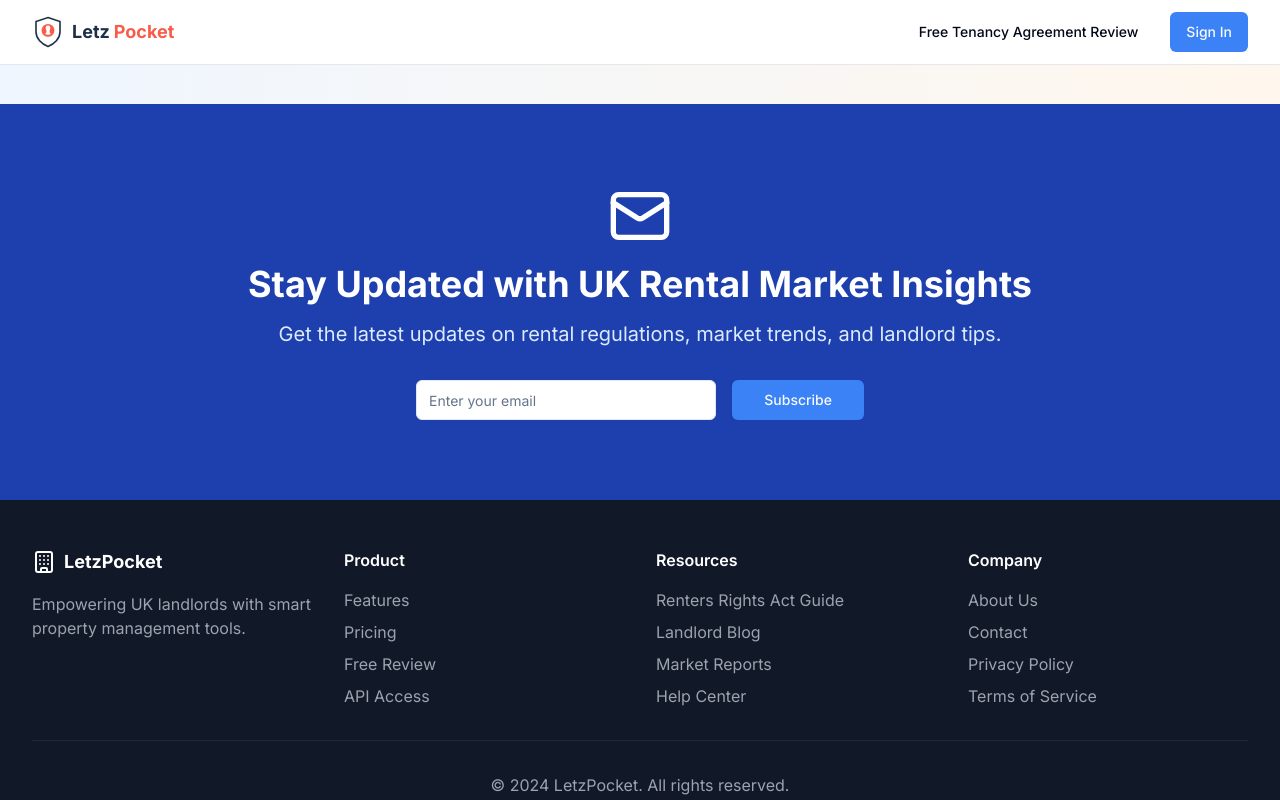
Scenario: LandingPage Component › Newsletter Signup › shows loading state during newsletter submission
This screenshot has width=1280, height=800.
(page scrolled)
Type "test@example.com" into the field with placeholder "Enter your email" at (566, 400), box [416, 380, 716, 420]
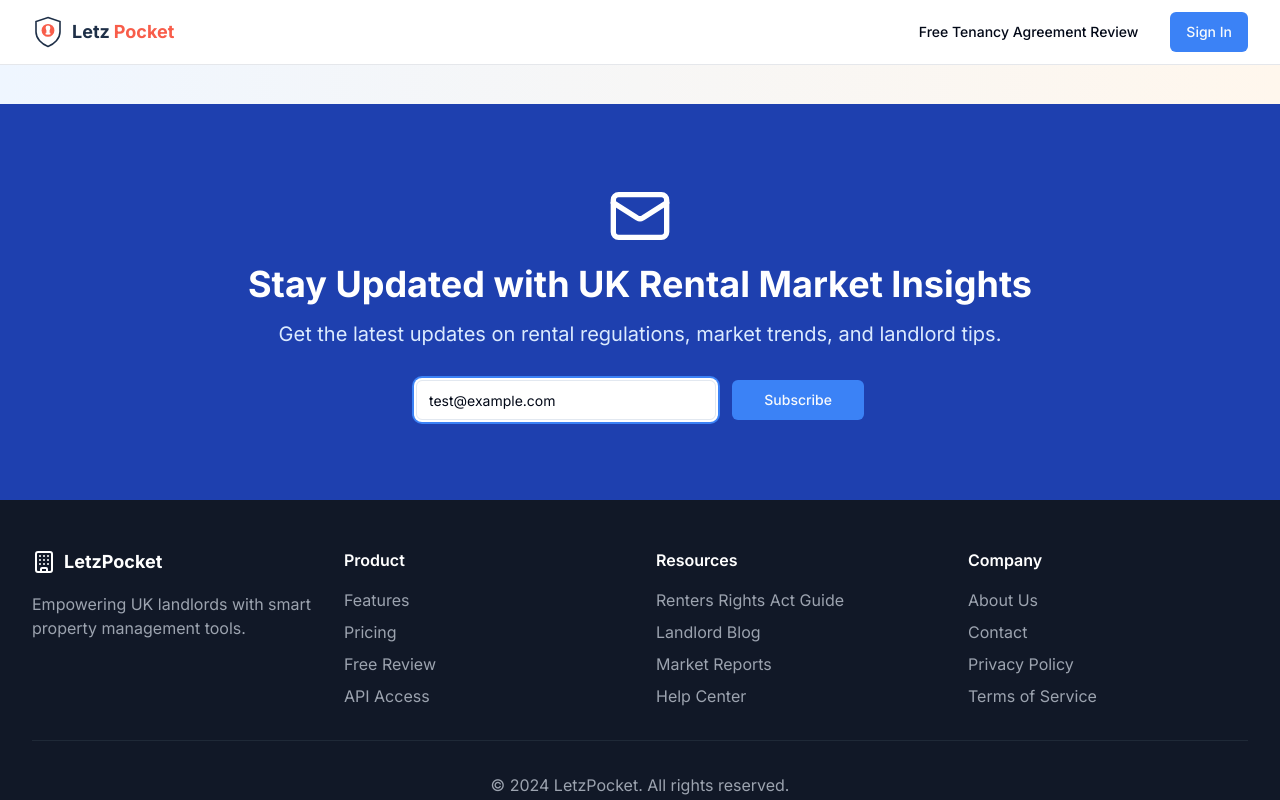
Click the button "Subscribe" at (798, 400), box [732, 380, 864, 420]
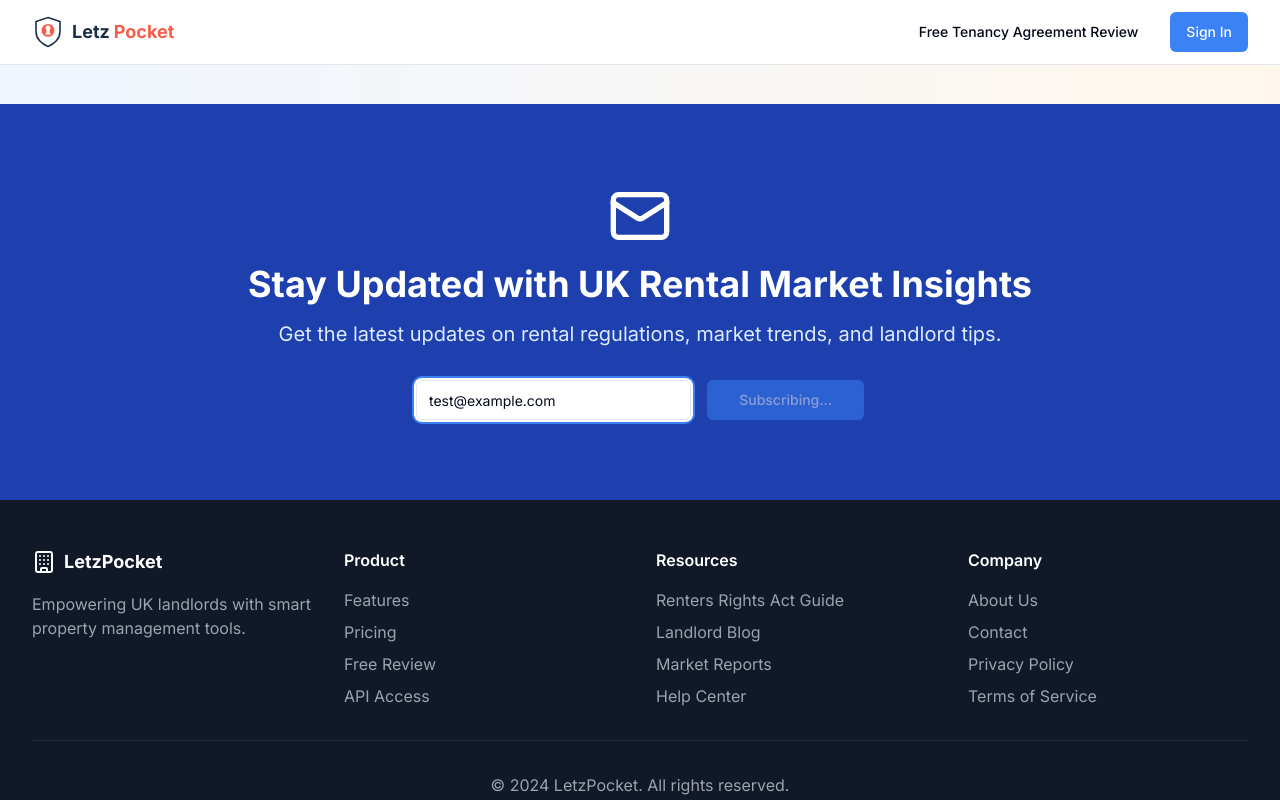
Now the button "Subscribing..." is disabled, box [707, 380, 864, 420]
